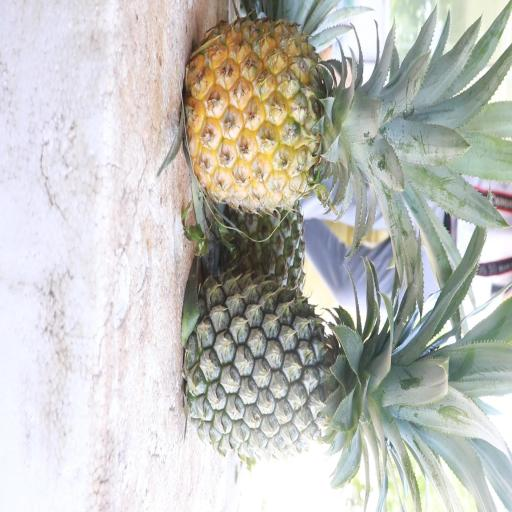Pineapple - v8 v1: (178, 14, 432, 223)
